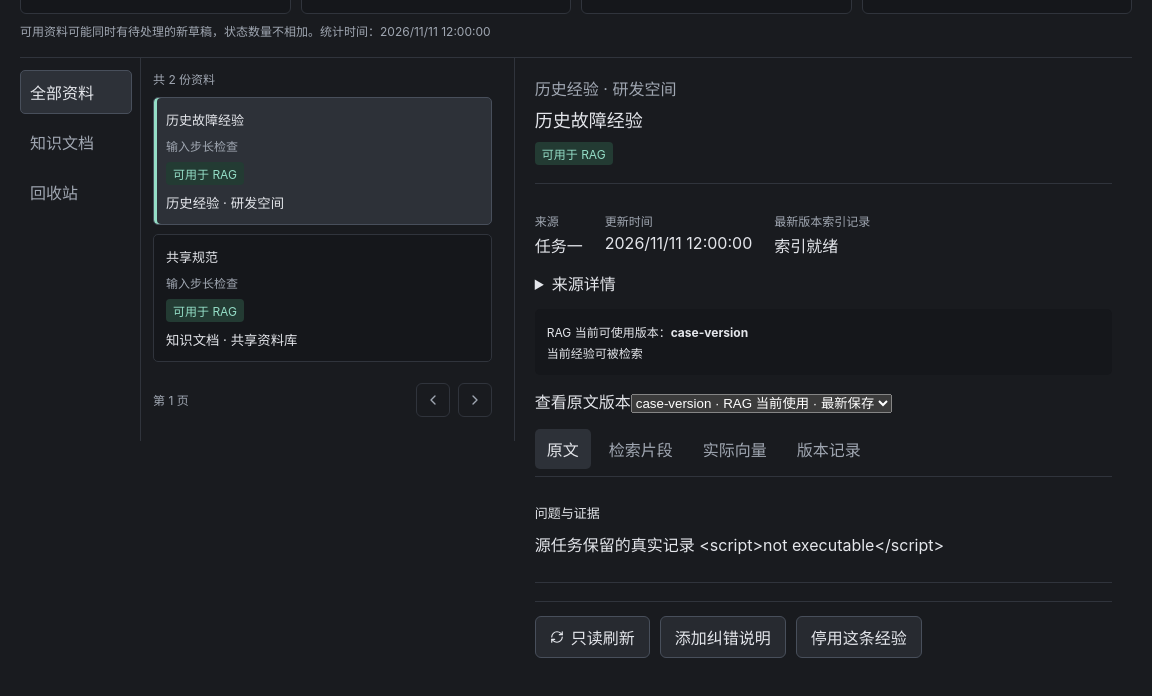
Test: unified original-source catalog › keeps same-ID historical chunks from different index generations distinct
This screenshot has width=1152, height=696.
(page scrolled)
Expected: the text "源任务保留的真实记录 <script>not executable</script>" is shown, [535, 534, 944, 554]
Click the tab "检索片段".
click(641, 448)  # box [597, 428, 685, 468]
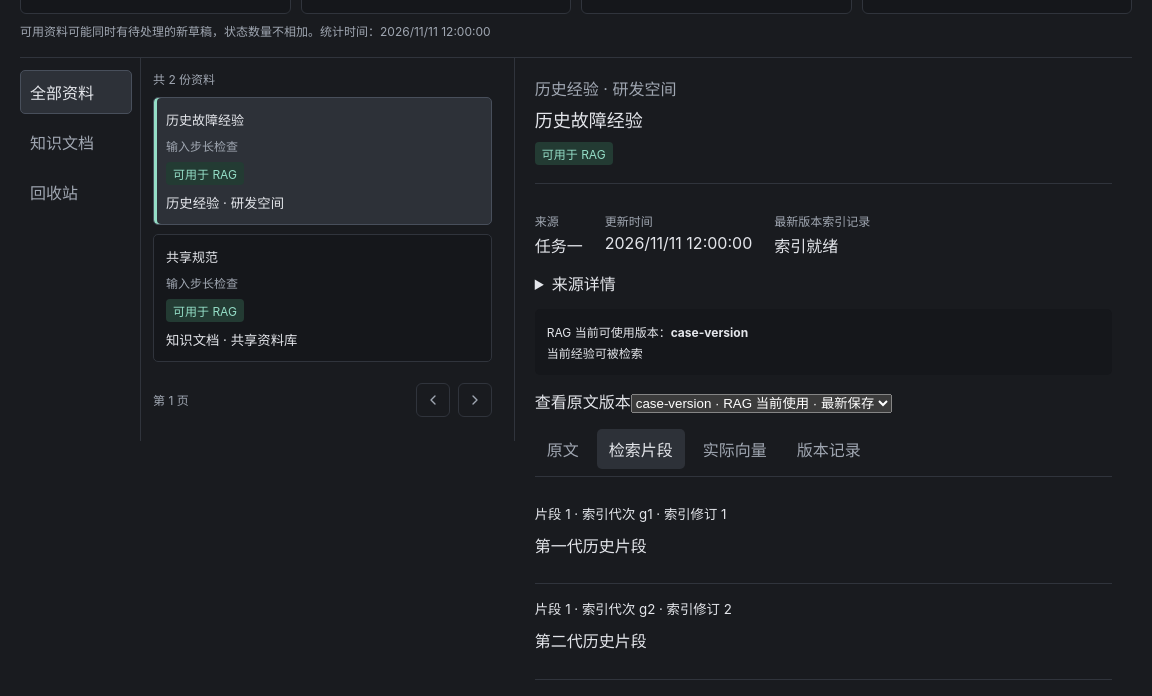
Result: the text "第一代历史片段" is shown at [535, 536, 647, 556]
Result: the text "第二代历史片段" is shown at [535, 631, 647, 651]
Result: the text "片段 1 · 索引代次 g1 · 索引修订 1" is shown at [535, 506, 726, 522]
